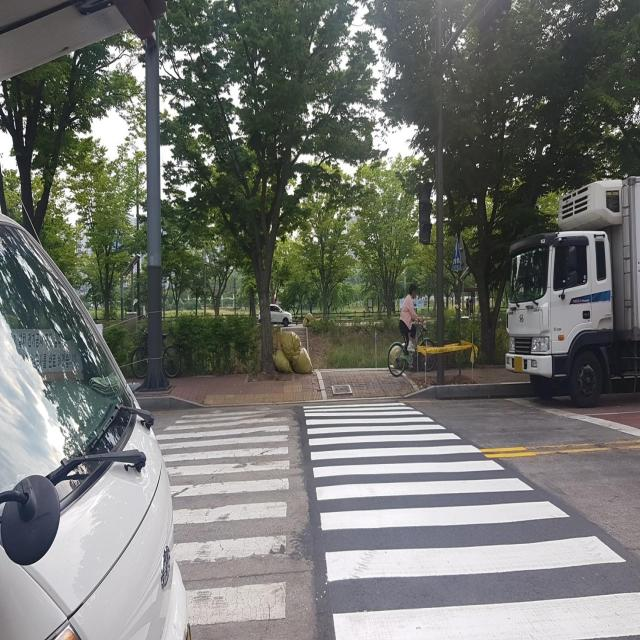횡단보도: (152, 397, 640, 640)
